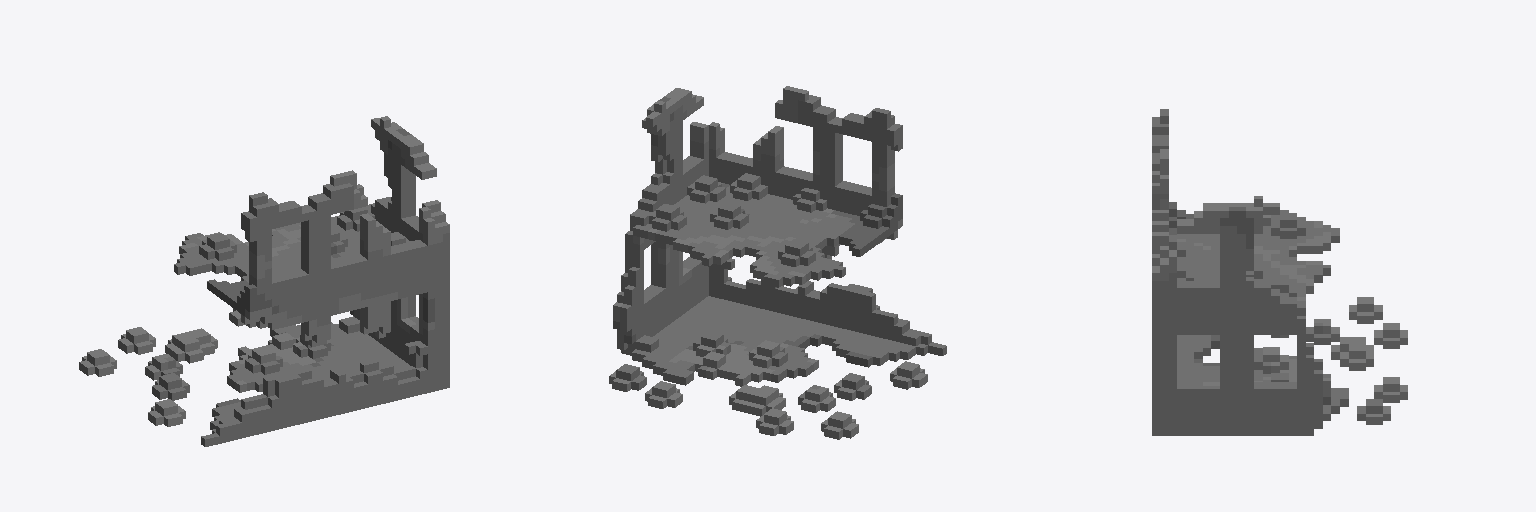
The picture shows the model from 3 angles: view 1: azimuth 30°, elevation 25°; view 2: azimuth 150°, elevation 25°; view 3: azimuth 270°, elevation 25°; orthographic projection.
Parts seen in each view (by area): view 1: object 1; view 2: object 1; view 3: object 1.
Part boxes in pixels (x1,y1,x2,y2): object 1: (79, 116, 449, 446); object 1: (609, 86, 946, 439); object 1: (1152, 109, 1407, 435).
Size of the model in its own units: 3.5 by 3 by 3.
1 materials, 1 textured.